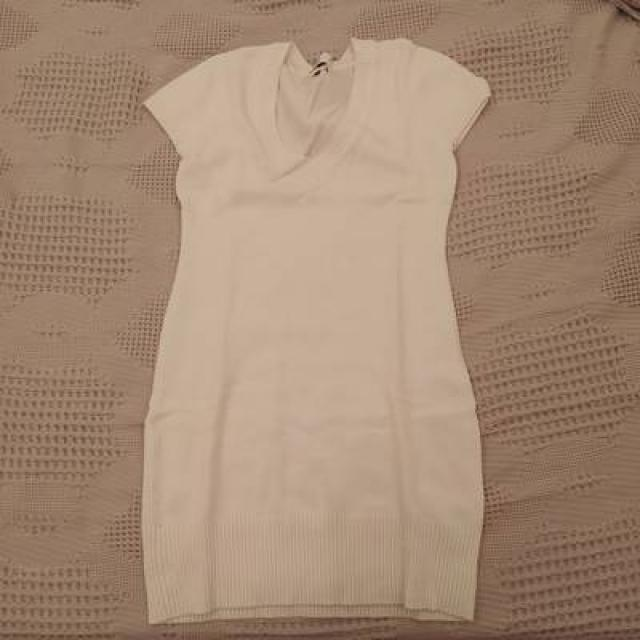Clothes -Biodegradable-: (142, 36, 490, 625)
